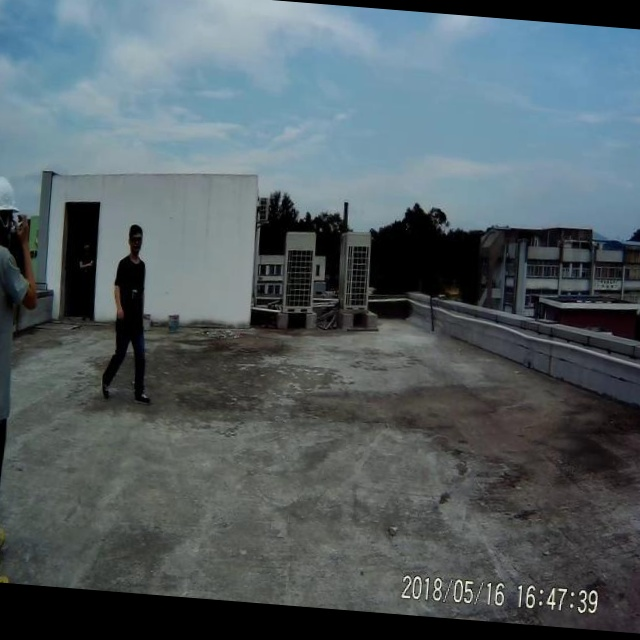Con_Casco: (0, 174, 21, 240)
Sin_Casco_Mascarrilla: (126, 223, 145, 257)
Sin_Chaleco: (0, 239, 23, 411)
